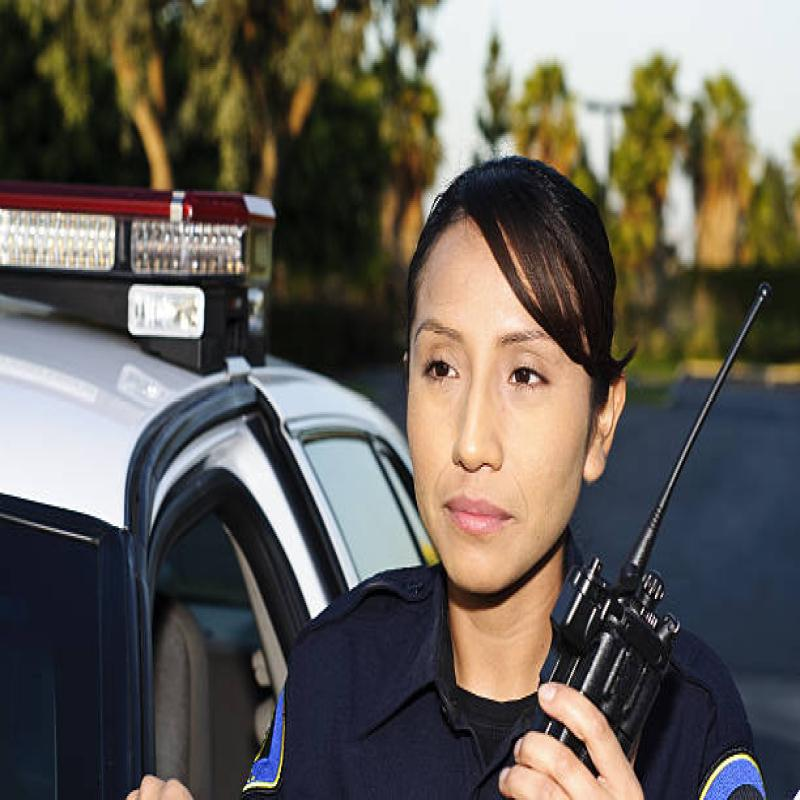AmbulanceSiren: (0, 165, 295, 305)
